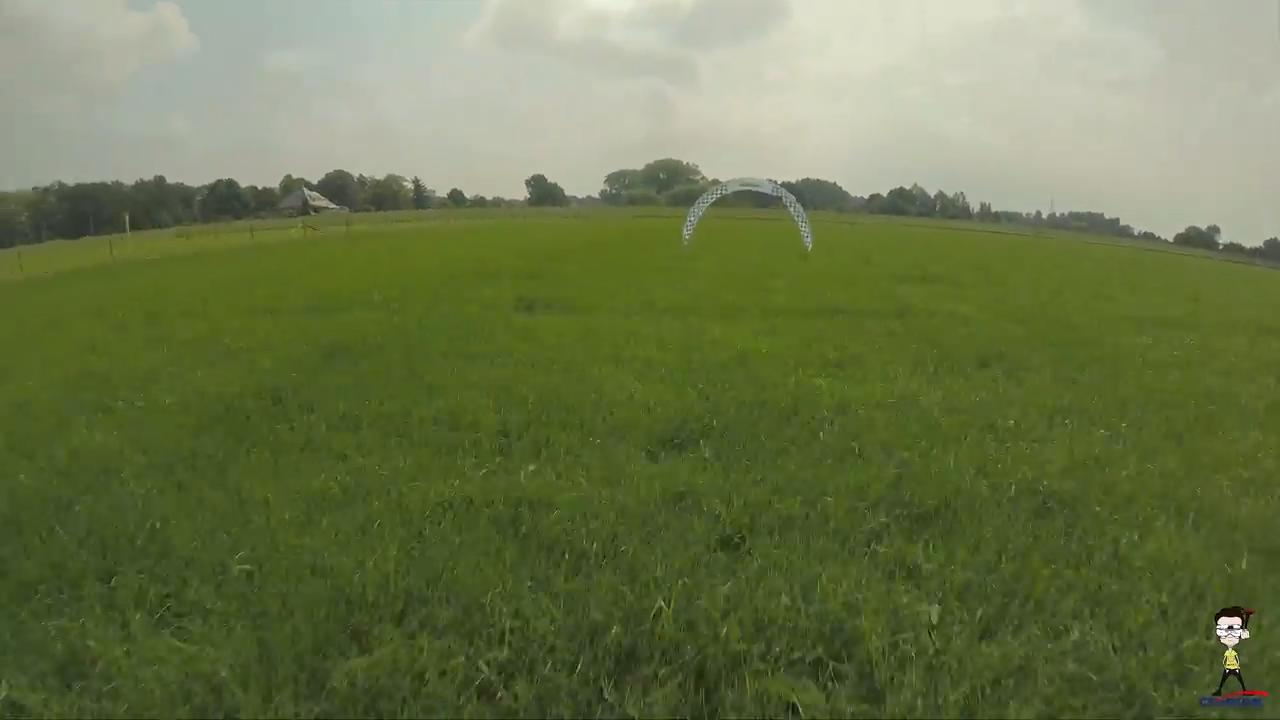gate: (680, 176, 810, 255)
